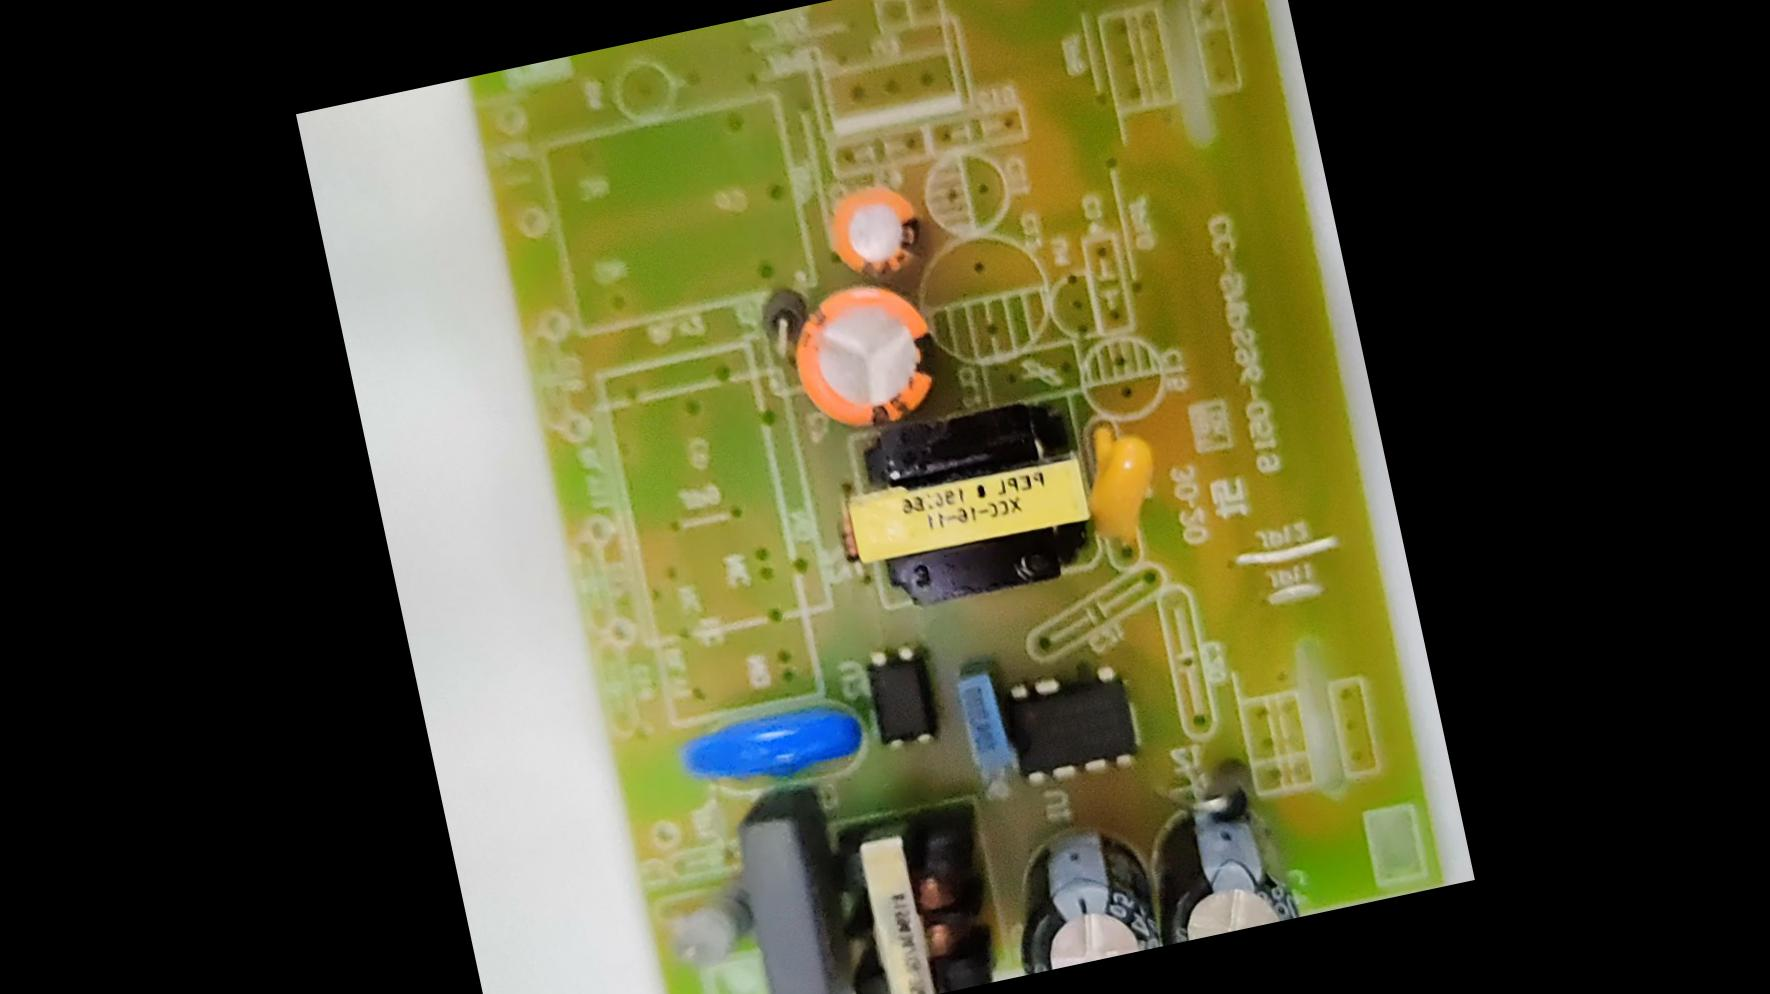Cap1: (773, 266, 958, 446)
Cap2: (812, 169, 935, 288)
Cap3: (988, 806, 1171, 976)
Cap4: (1131, 776, 1310, 945)
MOSFET: (992, 648, 1155, 797)
Mov: (665, 685, 880, 807)
Resistor: (659, 881, 757, 979)
Transformer: (829, 389, 1110, 627), (819, 796, 1000, 993)
